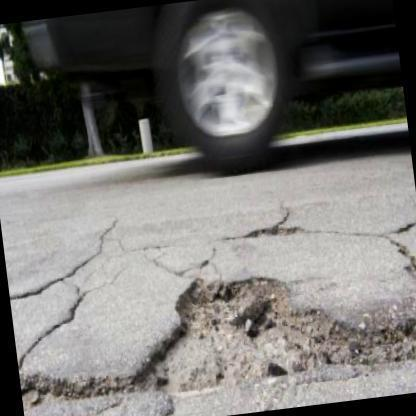pothole: (141, 274, 414, 393), (21, 368, 142, 414)
